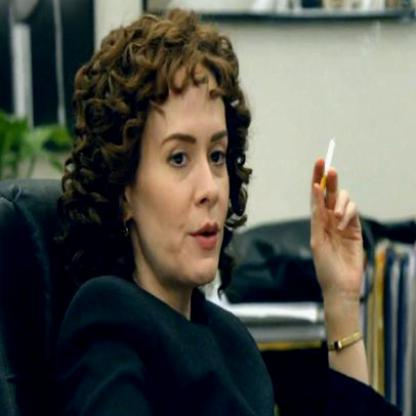cigarette: (318, 135, 338, 196)
person: (50, 23, 284, 416)
